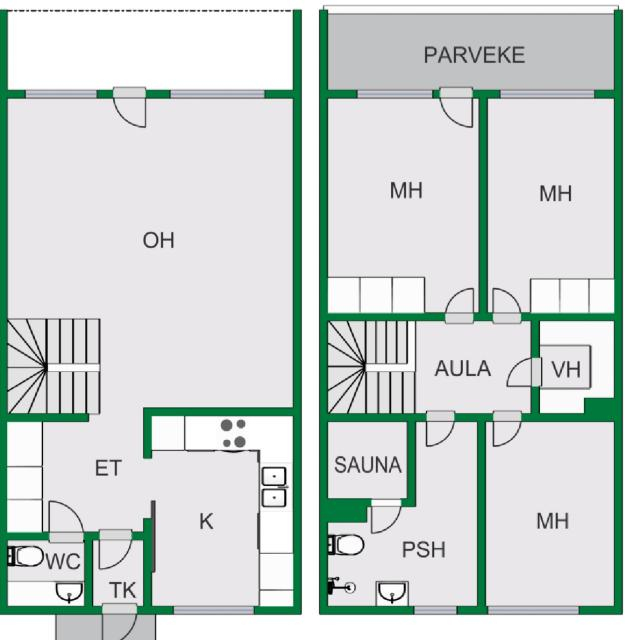door: (46, 495, 82, 540), (370, 499, 404, 541), (99, 532, 132, 574), (440, 90, 473, 132), (113, 90, 145, 130), (490, 281, 521, 321), (443, 282, 473, 321), (102, 606, 136, 640), (426, 413, 454, 450), (492, 413, 520, 450), (504, 358, 540, 386)
